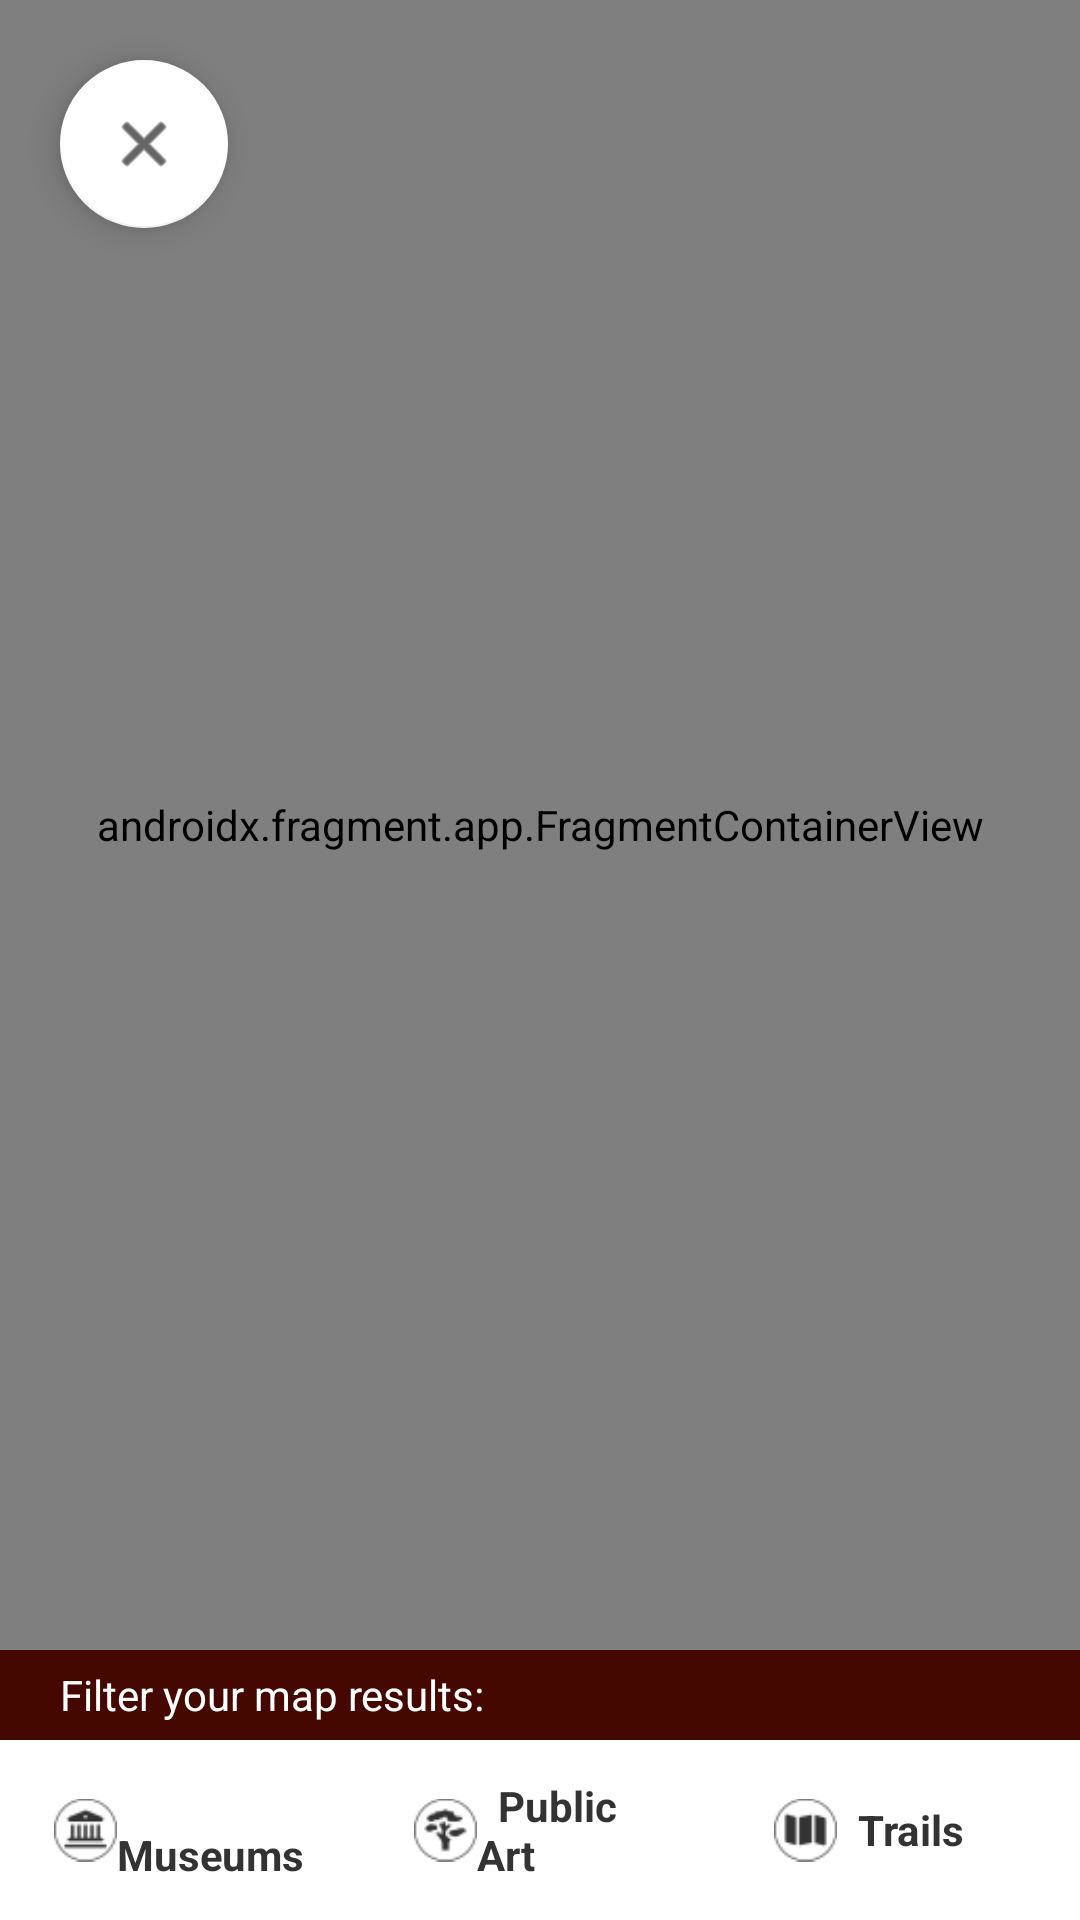

Icon bounding boxes for this 1080×1920 phone screenshot, format detection(x1, y1, x2, y2):
close clear cancel: detection(60, 60, 228, 228)
